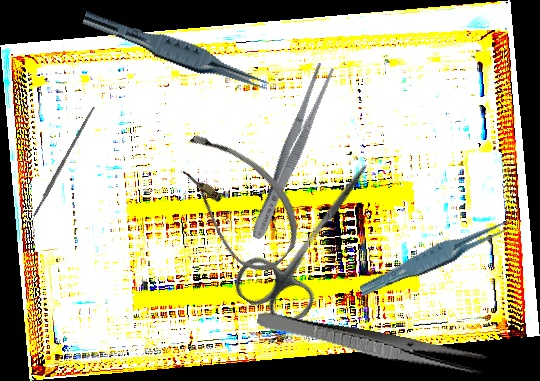Cannula: (151, 119, 319, 284)
Dressing Forceps: (245, 61, 338, 243), (254, 309, 488, 378)
Iris Scissors: (227, 140, 397, 334)
Scalpel Handle: (31, 105, 96, 218)
Tissue Forceps: (78, 9, 274, 96), (354, 216, 522, 298)
